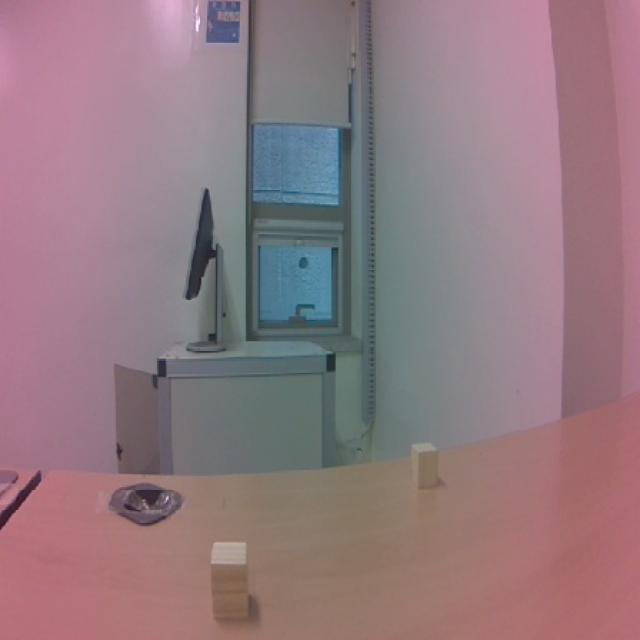obstacle: (197, 535, 263, 622), (403, 438, 450, 494)
